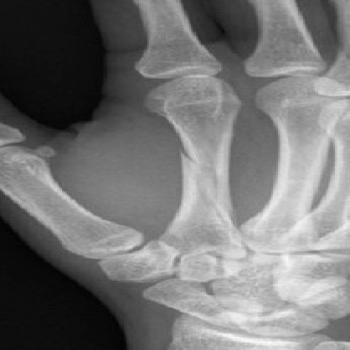Fracture: (169, 142, 234, 184)
